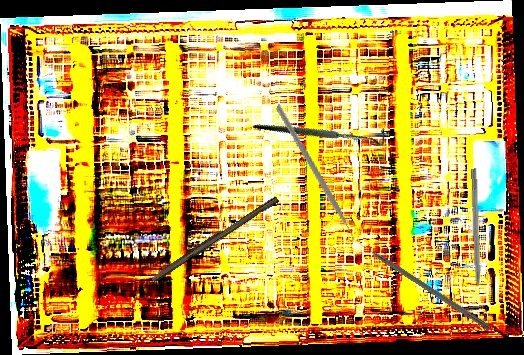Chopper: (232, 103, 395, 252)
Hook Surgical: (252, 66, 391, 194), (353, 236, 492, 331), (469, 168, 482, 304)
Scalpel Handle: (149, 192, 280, 285)
